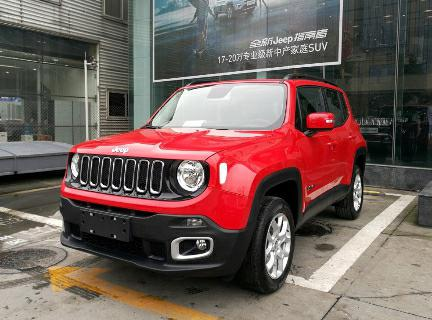Jeep-自由侠: (56, 76, 378, 302)
